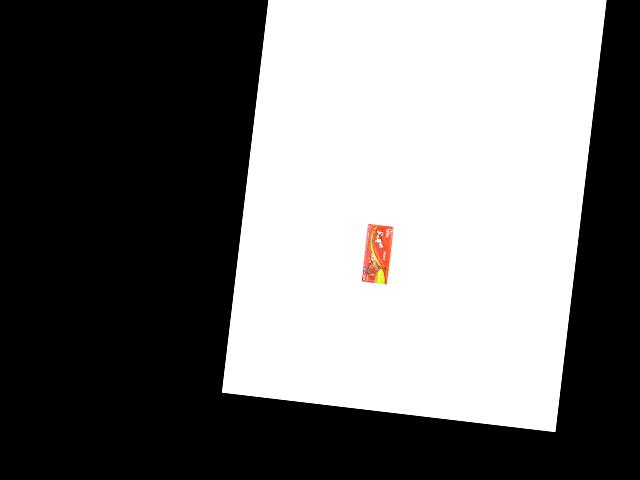chocolate: (355, 219, 396, 286)
